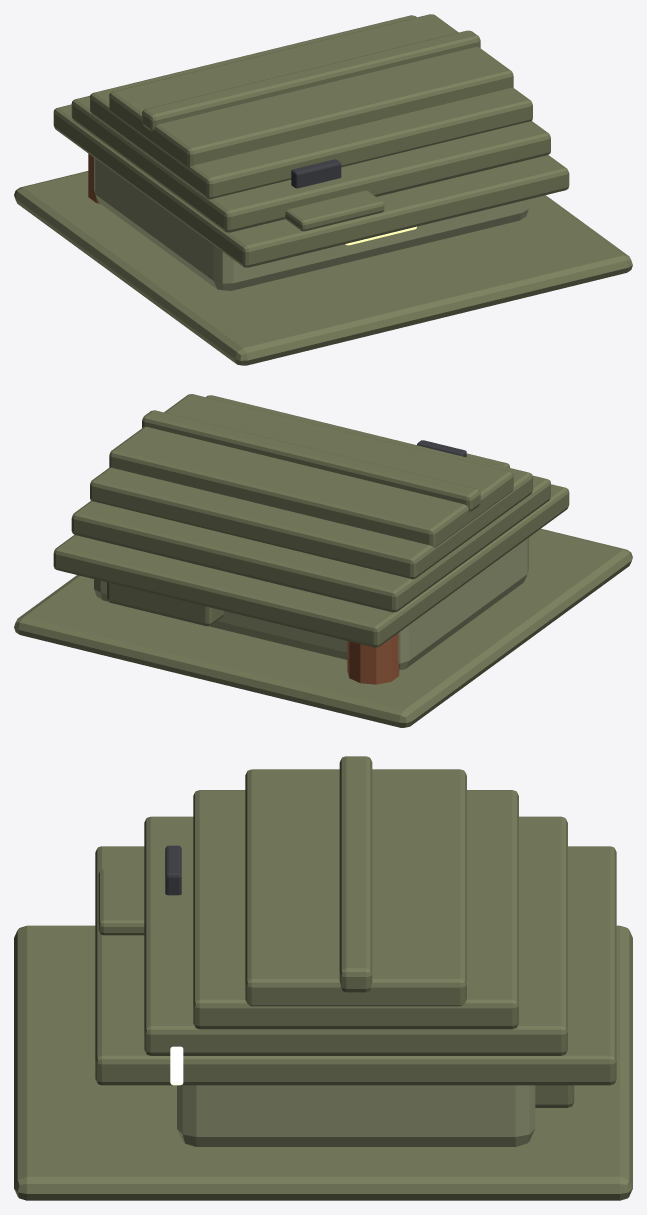
Rendered from com_barracks.glb.
3 renders of one model, top to bottom at view 1: azimuth 30°, elevation 25°; view 2: azimuth 150°, elevation 25°; view 3: azimuth 270°, elevation 25°, orthographic. The views are drawn at different scales.
Parts seen in each view (by area): view 1: com_barracks; view 2: com_barracks; view 3: com_barracks.
Part boxes in pixels (x1,y1,x2,y2): com_barracks: [14, 14, 632, 365]; com_barracks: [14, 394, 632, 727]; com_barracks: [14, 756, 632, 1200].
Bounding box in the file's own units: 1.9 × 0.72 × 1.9.
